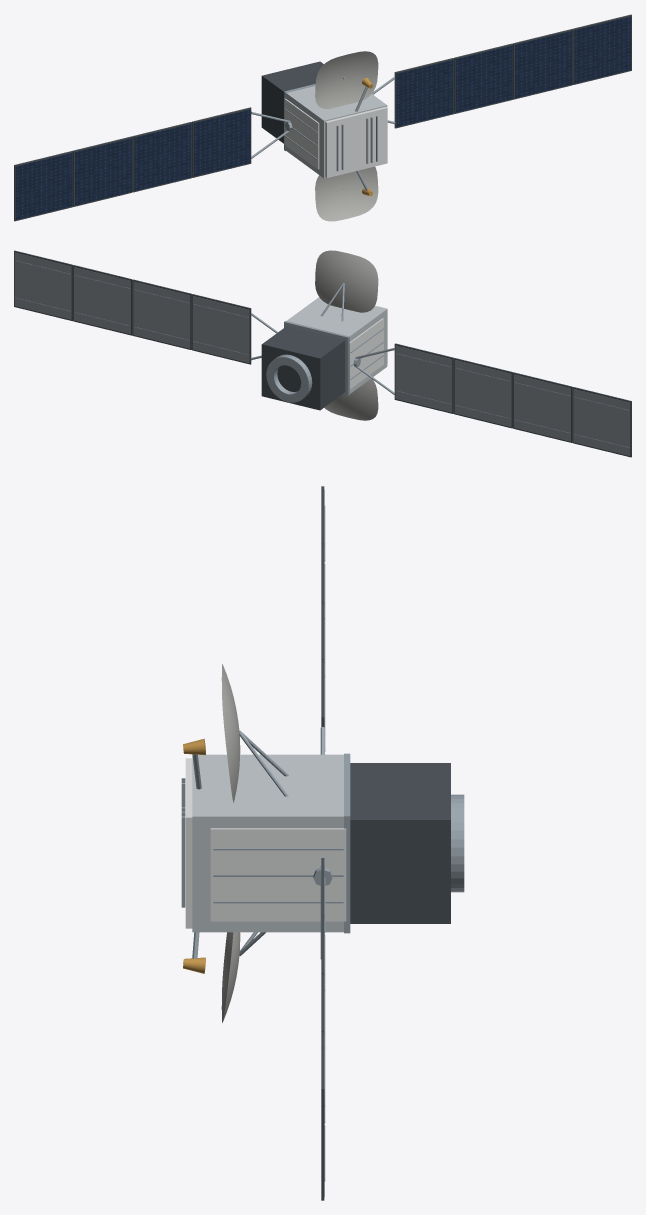
Rendered from ref-osc-star-2-27461.glb.
3 views of the same model, one above another, from view 1: azimuth 30°, elevation 25°; view 2: azimuth 150°, elevation 25°; view 3: azimuth 270°, elevation 25° (orthographic). The views are drawn at different scales.
Visible parts, largest first — view 1: Solar cell panel (×8), Communications reflector (×2), Solar panel frame (×8), Earth-facing deck, Service module, Payload module, Radiator face; view 2: Rear array substrate (×8), Service module, Communications reflector (×2), Solar panel frame (×8), Payload module, Radiator face, Launch adapter ring, Module interface; view 3: Service module, Payload module, Radiator face, Communications reflector (×2), Launch adapter ring, Earth-facing deck, Module interface.
Boxes of the visible parts, box(x1,y1,x2,y2) form: Solar cell panel (×8): box(15, 16, 631, 219); Communications reflector (×2): box(315, 51, 378, 221); Solar panel frame (×8): box(14, 14, 631, 221); Earth-facing deck: box(325, 107, 387, 177); Service module: box(261, 61, 323, 143); Payload module: box(286, 86, 387, 178); Radiator face: box(284, 98, 319, 169); Rear array substrate (×8): box(14, 252, 630, 455); Service module: box(261, 326, 345, 410); Communications reflector (×2): box(315, 250, 378, 420); Solar panel frame (×8): box(14, 250, 631, 457); Payload module: box(287, 297, 387, 393); Radiator face: box(349, 318, 383, 389); Launch adapter ring: box(266, 354, 312, 402); Module interface: box(284, 321, 349, 395); Service module: box(350, 763, 450, 923); Payload module: box(192, 754, 343, 932); Radiator face: box(210, 828, 346, 921); Communications reflector (×2): box(221, 664, 240, 1022); Launch adapter ring: box(451, 794, 464, 892); Earth-facing deck: box(185, 758, 192, 928); Module interface: box(344, 753, 350, 933).
Size of the model in its own units: 22.38 by 5.7 by 4.44.
8 materials, 1 textured.
